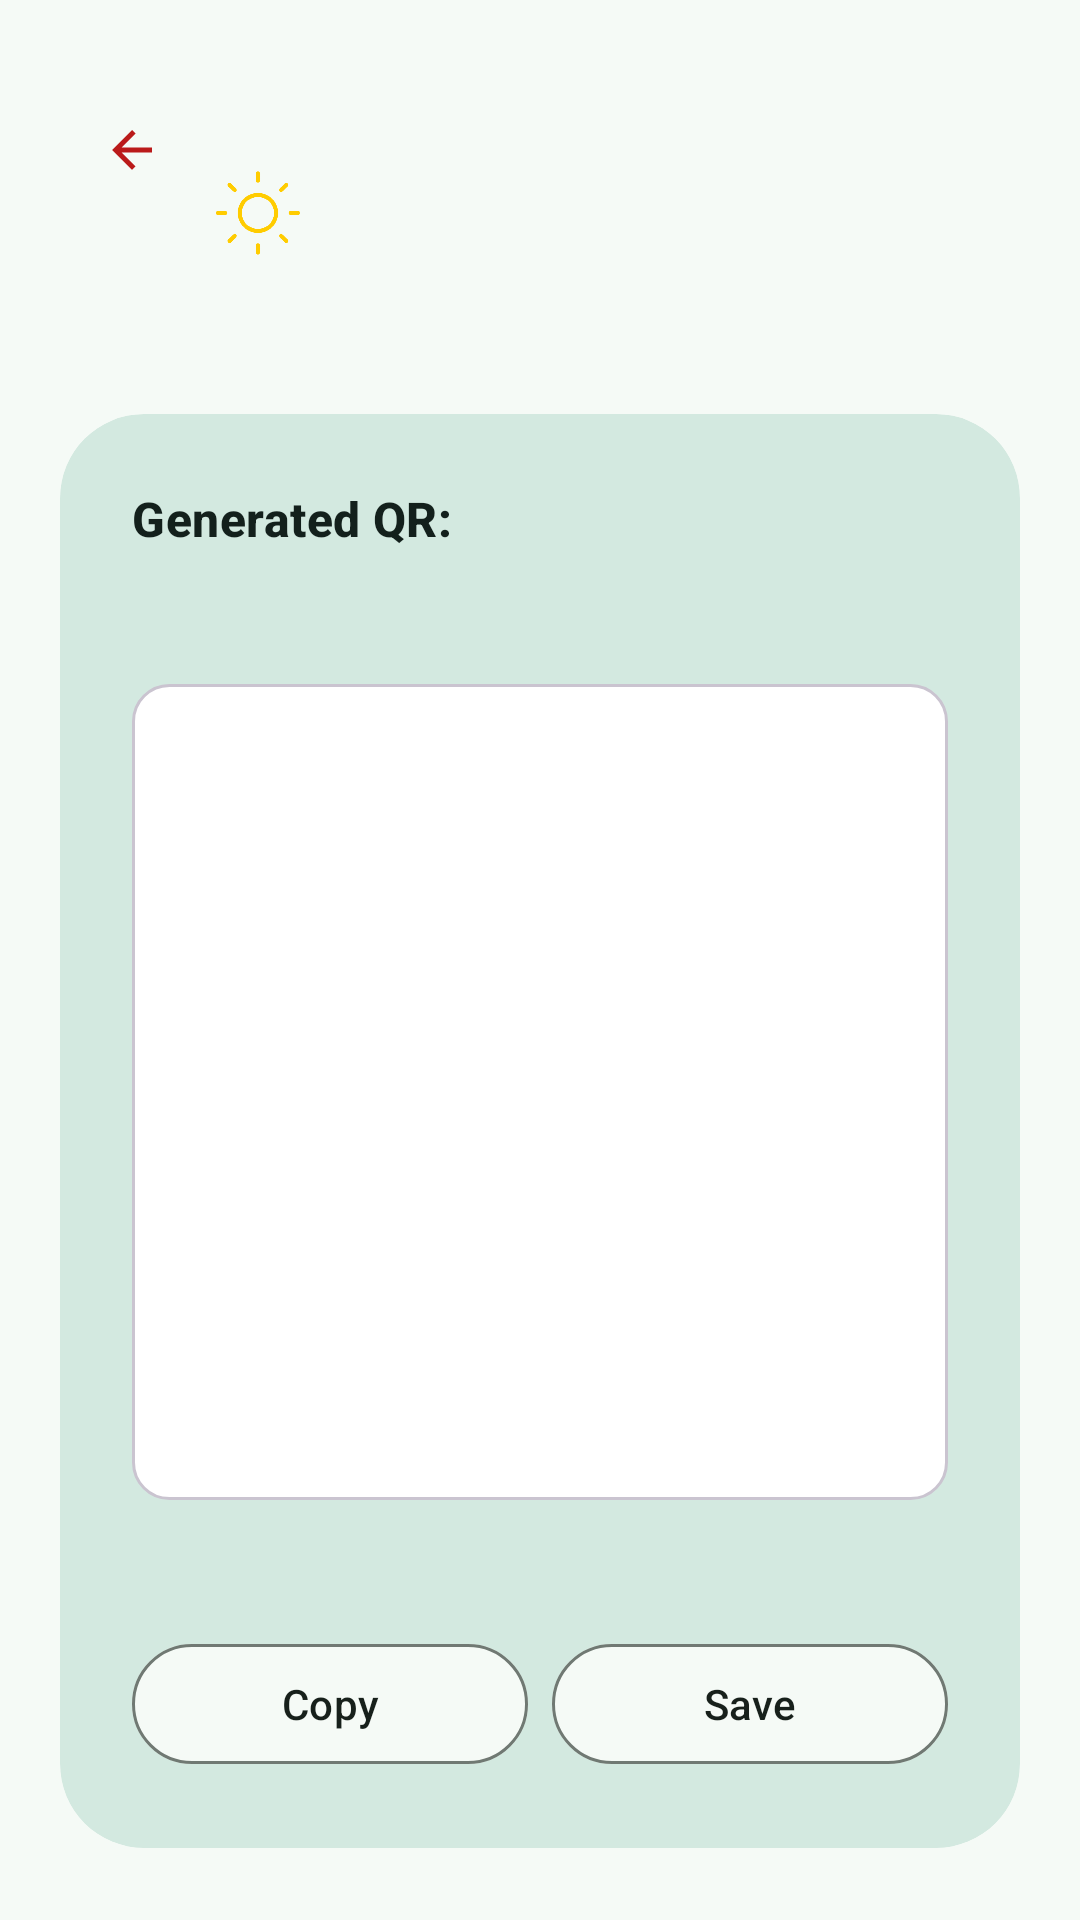

Icon bounding boxes for this 1080w x 1920h phone screenshot, format box(x1, y1, x2, y2):
arrow back: box(112, 130, 152, 170)
